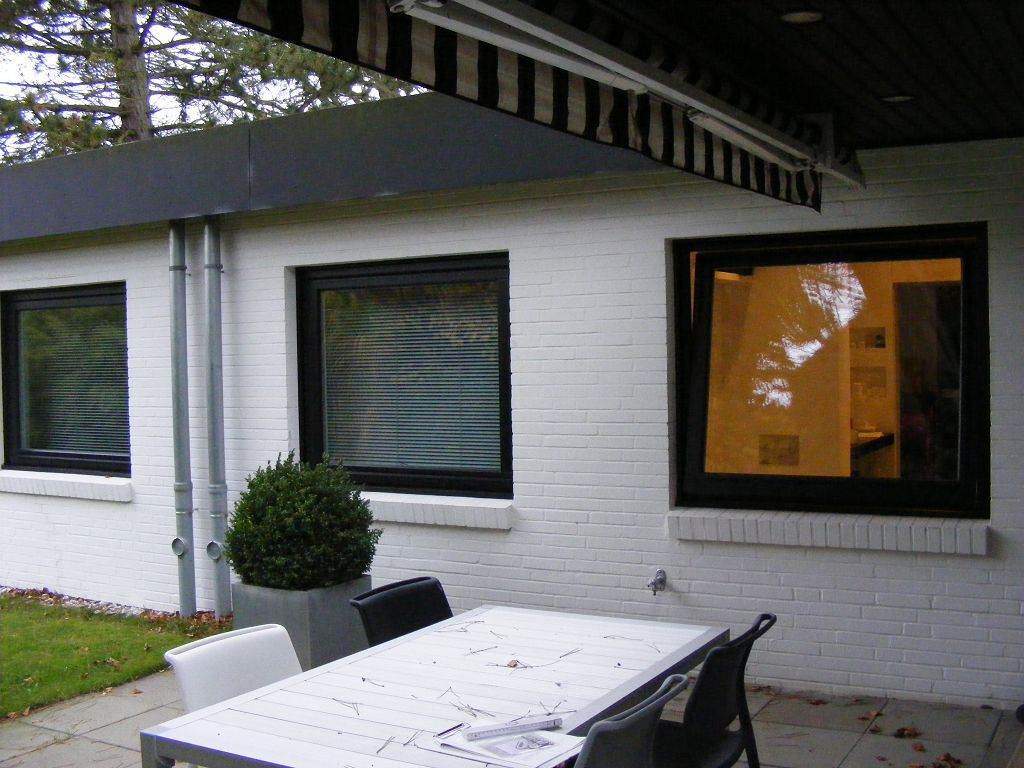windows: (668, 236, 990, 533)
